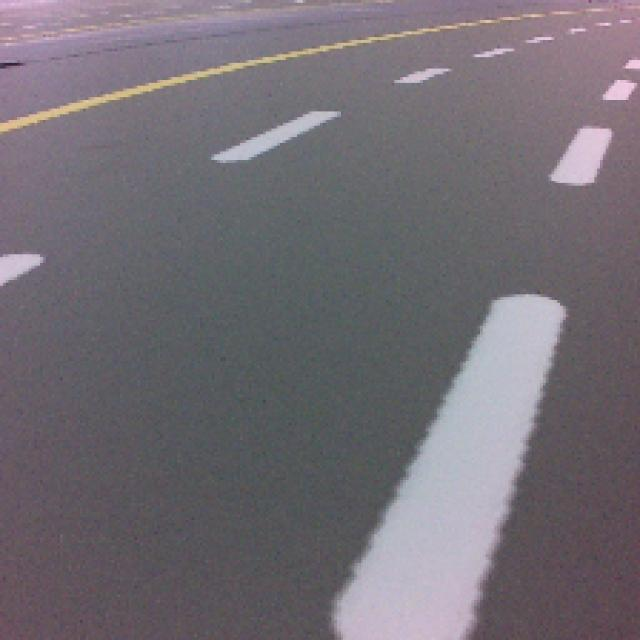Guard rail: (334, 290, 565, 640)
